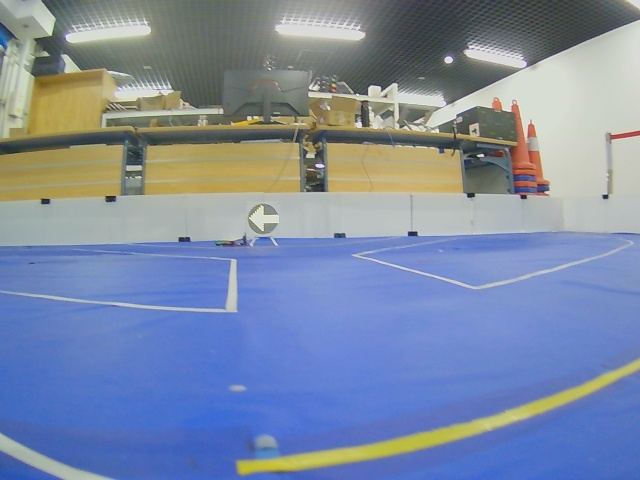left_yellow: (248, 204, 280, 234)
